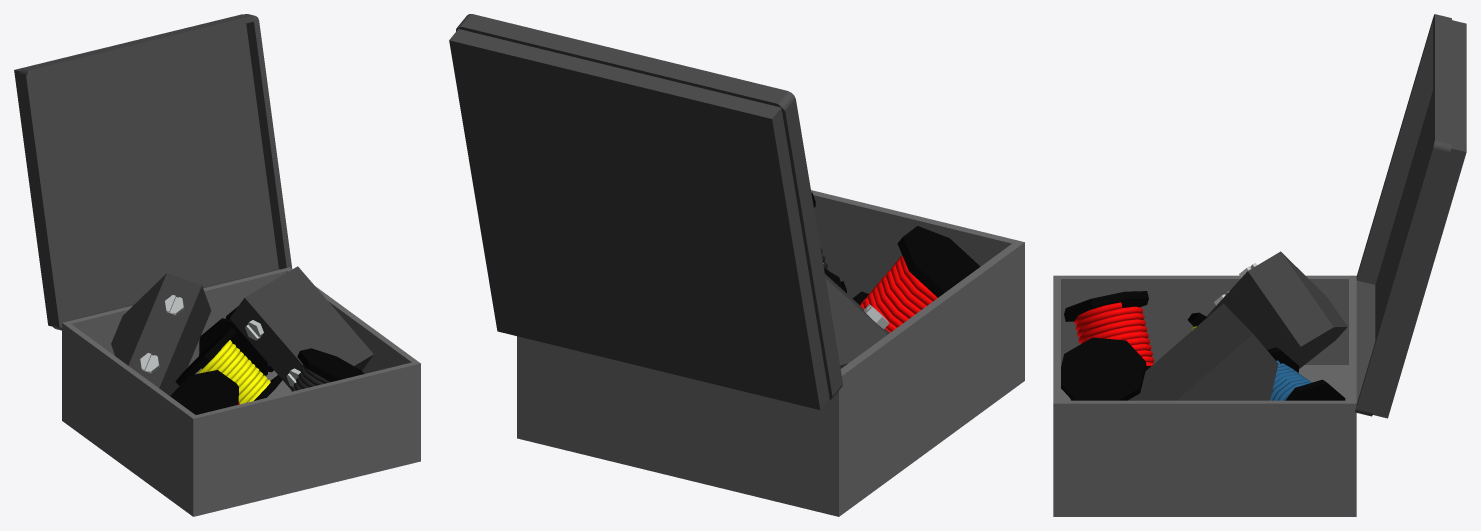
The model's file is KitJunctionBox.fbx.
3 renders of one model, left to right at view 1: azimuth 30°, elevation 25°; view 2: azimuth 150°, elevation 25°; view 3: azimuth 270°, elevation 25°, orthographic. The views are drawn at different scales.
Visible parts, largest first — view 1: Junction Box Kit; view 2: Junction Box Kit; view 3: Junction Box Kit.
Boxes of the visible parts, x1,y1,x2,y2 form: Junction Box Kit: (14, 14, 420, 516); Junction Box Kit: (449, 14, 1024, 516); Junction Box Kit: (1053, 14, 1466, 516).
Bounding box in the file's own units: 39.15 × 52.26 × 52.12.
